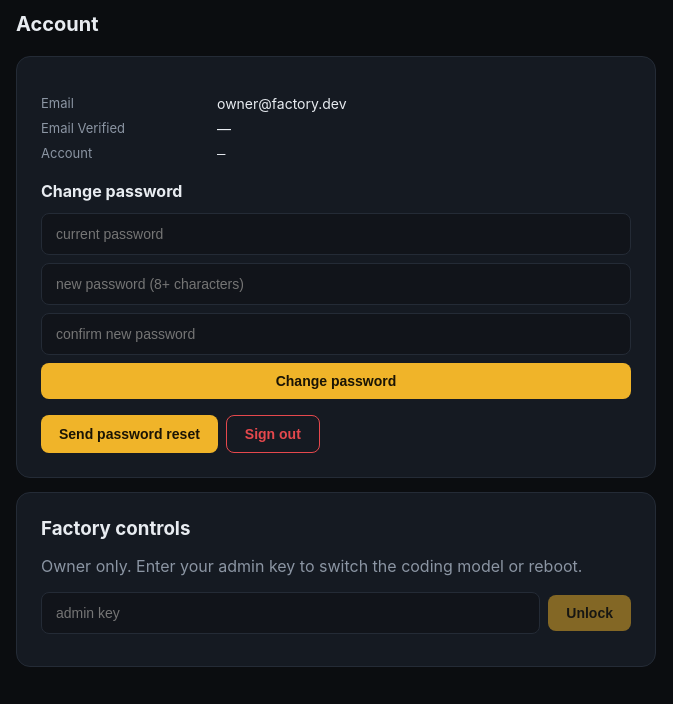
it: Account password reset › posts forgot-password for the current email and shows success without resetting
The image size is (673, 704).
Click the button "Send password reset" at (129, 434), box [41,415,218,453]
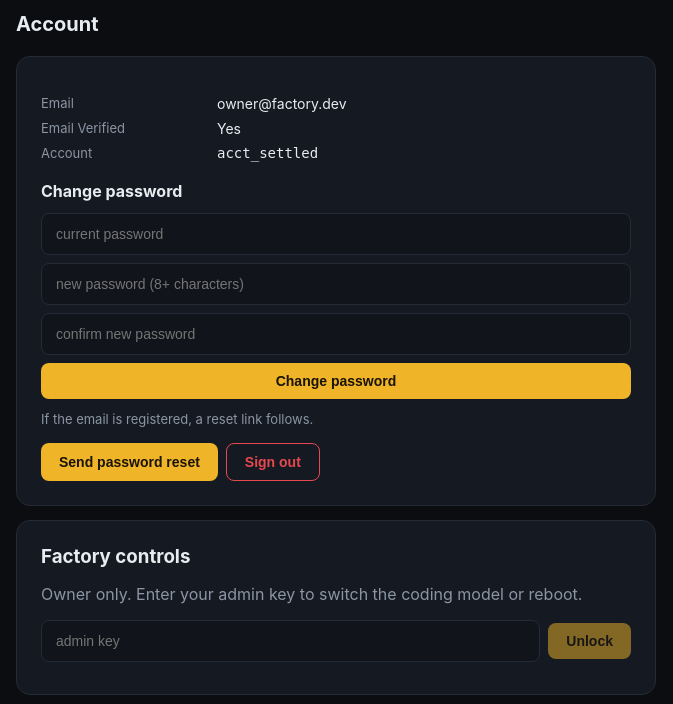
expect the button "Sign out" is shown: met, box [226,443,320,481]
expect the text "If the email is registered, a reset link follows." is shown: met, box [41,411,313,427]
